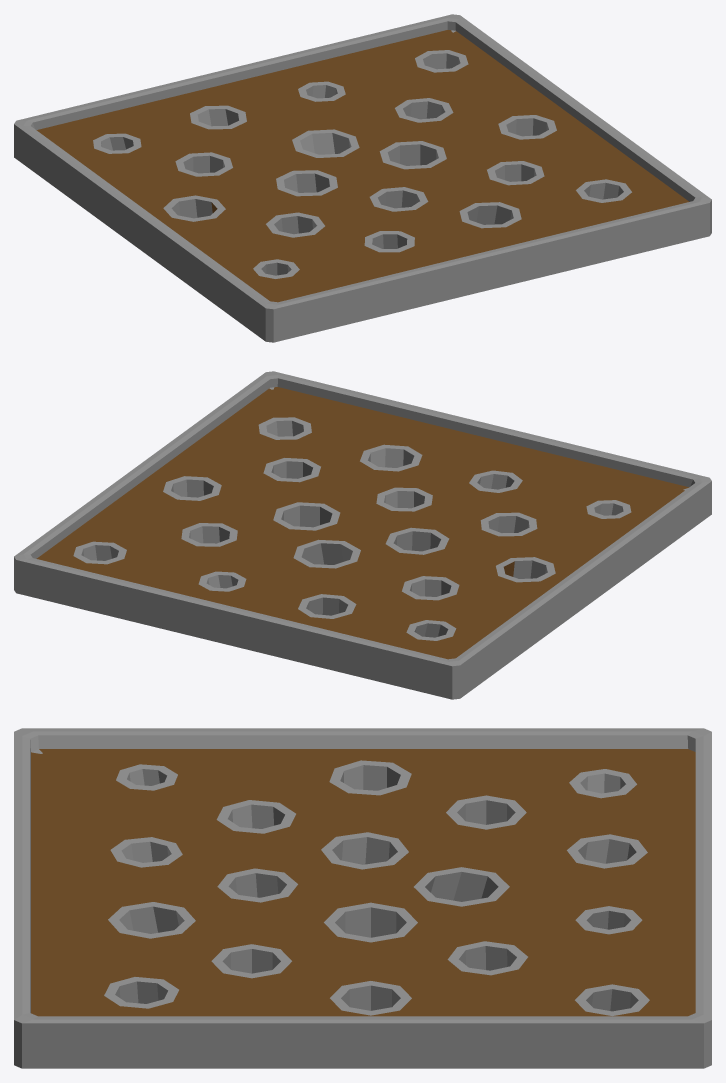
The model's file is Trap3_Alt.fbx.
3 views of the same model, one above another, from view 1: azimuth 30°, elevation 25°; view 2: azimuth 150°, elevation 25°; view 3: azimuth 270°, elevation 25° (orthographic). The views are drawn at different scales.
Parts seen in each view (by area): view 1: Cube.040; view 2: Cube.040; view 3: Cube.040.
Part boxes in pixels (x1=…): Cube.040: x1=14, y1=14, x2=711, y2=342; Cube.040: x1=14, y1=371, x2=711, y2=699; Cube.040: x1=14, y1=728, x2=711, y2=1068.
Bounding box in the file's own units: 1 × 0.0732 × 1.
